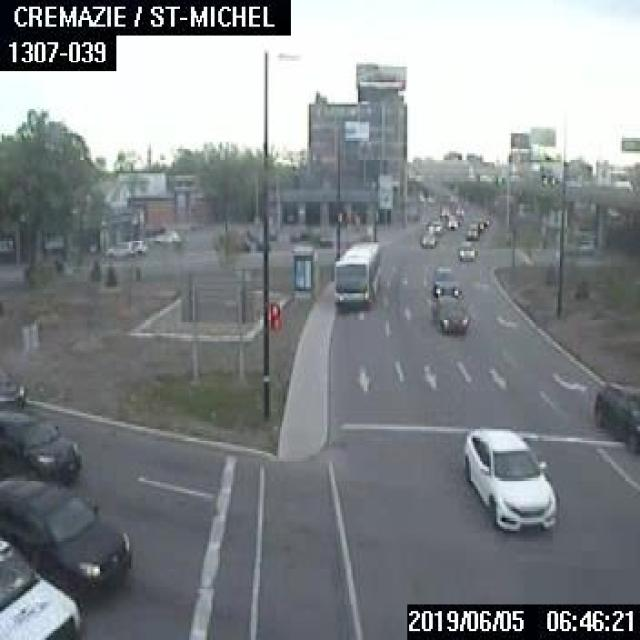bus: (331, 240, 376, 307)
vehicle: (0, 473, 131, 600), (460, 422, 555, 534), (0, 538, 80, 638), (0, 408, 78, 481), (591, 382, 638, 456), (431, 294, 466, 336), (0, 362, 24, 409), (431, 265, 460, 297), (602, 168, 631, 190), (102, 240, 132, 256), (150, 228, 180, 242), (456, 240, 476, 260), (128, 238, 146, 254), (419, 230, 435, 247), (427, 218, 442, 232), (464, 222, 477, 238), (446, 213, 457, 228)
